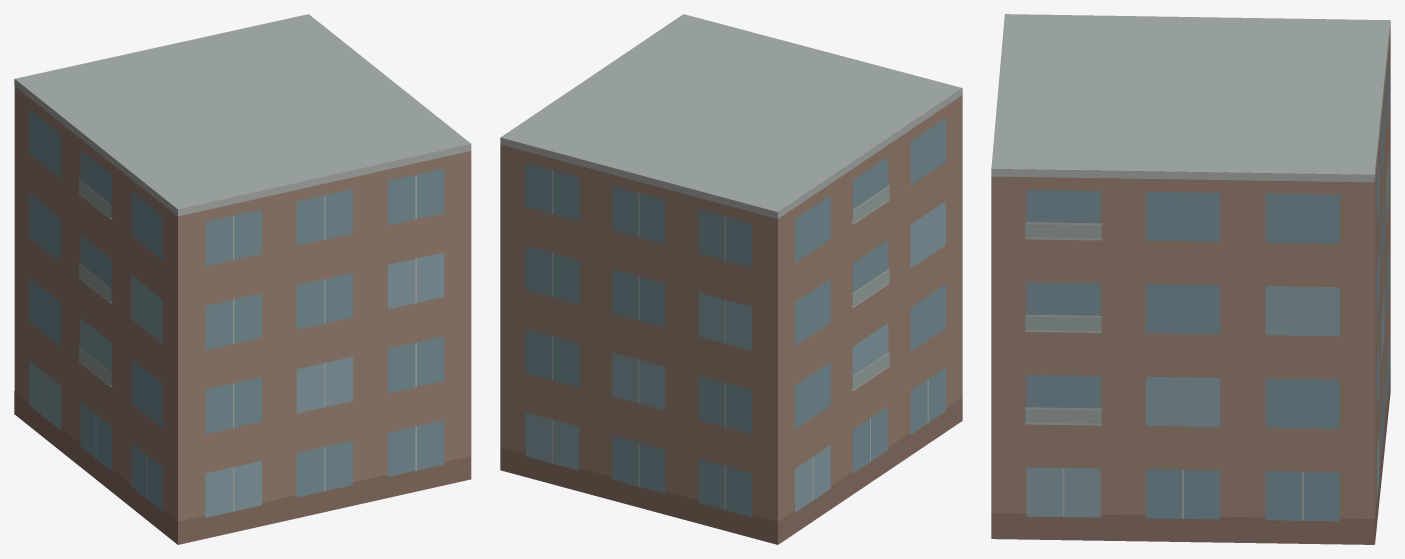
File: survey-upis-32963136.glb
3 views of the same model, side by side, from view 1: azimuth 30°, elevation 25°; view 2: azimuth 150°, elevation 25°; view 3: azimuth 270°, elevation 25° (orthographic). The views are drawn at different scales.
Visible parts, largest first — view 1: survey-upis-32963136.tmp; view 2: survey-upis-32963136.tmp; view 3: survey-upis-32963136.tmp.
Boxes of the visible parts, left/top/right/bottom form: survey-upis-32963136.tmp: left=14, top=14, right=471, bottom=544; survey-upis-32963136.tmp: left=500, top=14, right=962, bottom=544; survey-upis-32963136.tmp: left=991, top=14, right=1390, bottom=544.
Bounding box in the file's own units: 10.9 × 11.7 × 11.45.
